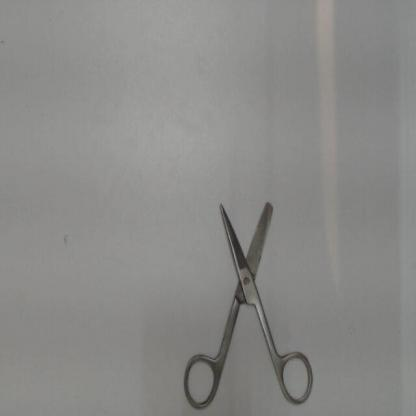Dressing Scissors: (177, 180, 321, 413)
